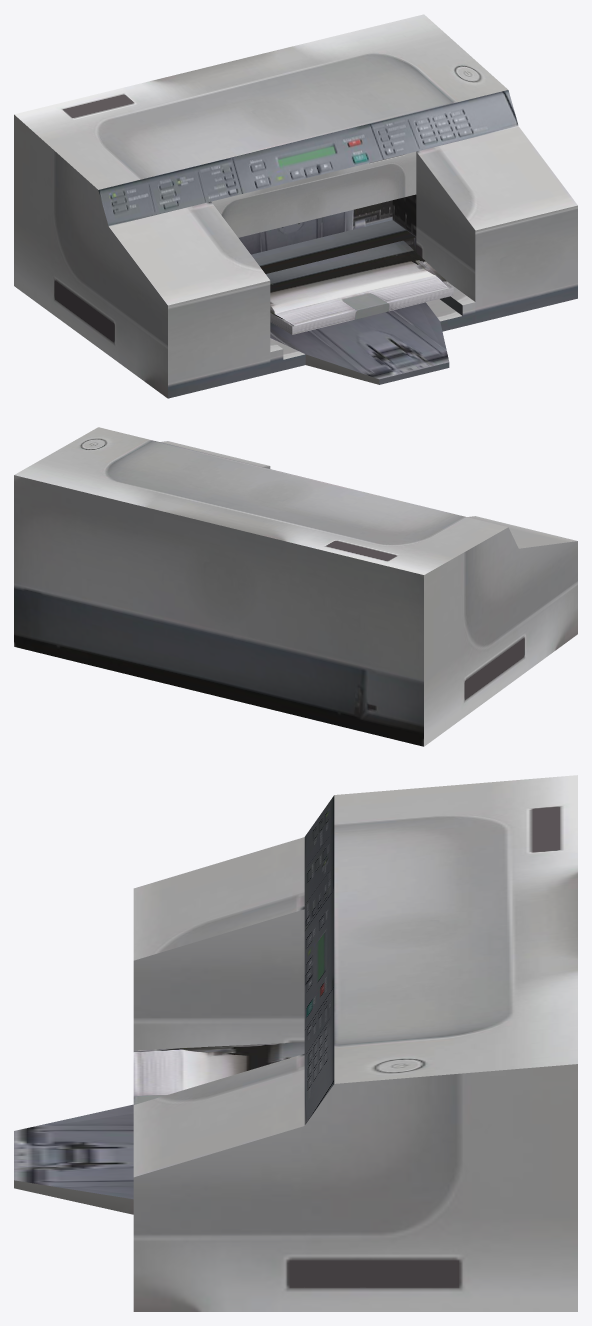
Rendered from printer 1_lod1.fbx.
3 renders of one model, top to bottom at view 1: azimuth 30°, elevation 25°; view 2: azimuth 150°, elevation 25°; view 3: azimuth 270°, elevation 25°, orthographic. The views are drawn at different scales.
Parts seen in each view (by area): view 1: pCube1; view 2: pCube1; view 3: pCube1.
Boxes of the visible parts, box(x1,y1,x2,y2) form: pCube1: box(14, 14, 577, 398); pCube1: box(14, 427, 577, 746); pCube1: box(14, 775, 577, 1311).
Bounding box in the file's own units: 2 × 0.8 × 1.65.
